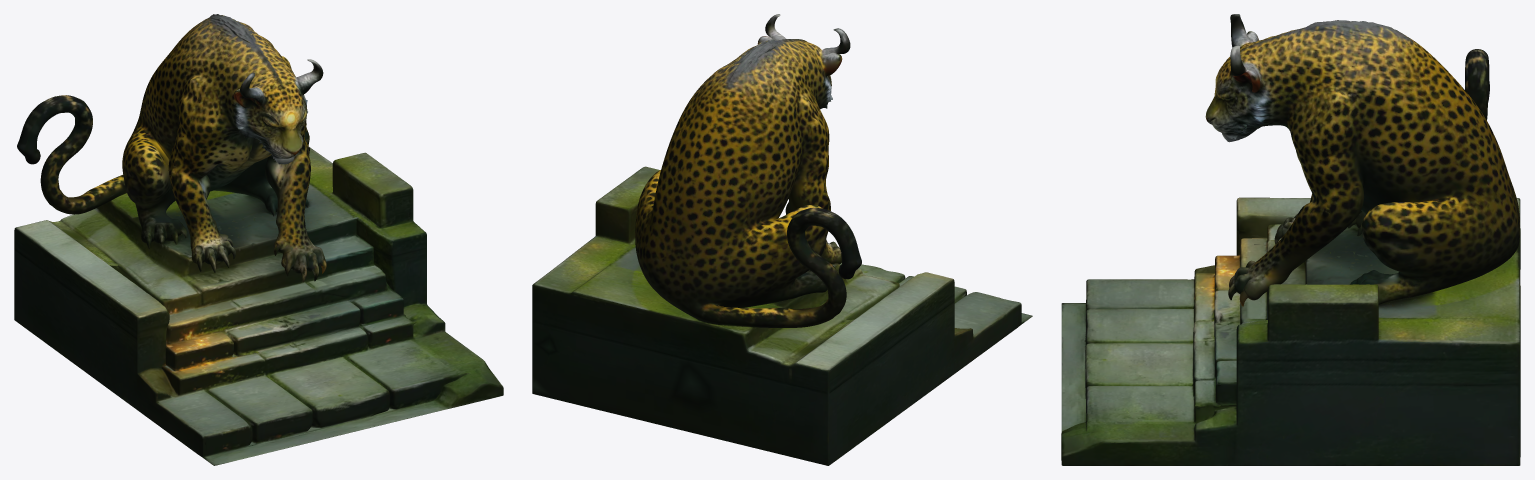
File: pi-xiu.glb
3 renders of one model, left to right at view 1: azimuth 30°, elevation 25°; view 2: azimuth 150°, elevation 25°; view 3: azimuth 270°, elevation 25°, orthographic. The views are drawn at different scales.
Visible parts, largest first — view 1: node_0; view 2: node_0; view 3: node_0.
Boxes of the visible parts, bbox=[...] form: node_0: bbox=[14, 14, 503, 465]; node_0: bbox=[532, 14, 1032, 465]; node_0: bbox=[1061, 14, 1520, 465].
Size of the model in its own units: 0.6622 by 0.662 by 0.7555.
1 material, 1 textured.
